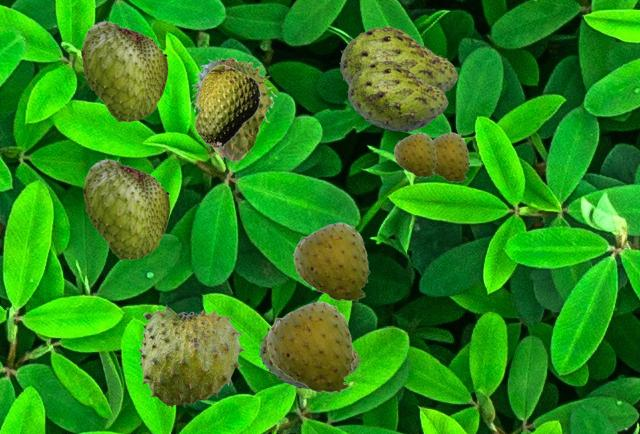guyabano: (137, 304, 244, 406), (190, 57, 276, 163), (81, 19, 167, 121), (83, 157, 169, 259), (265, 301, 354, 394), (339, 26, 457, 93), (347, 60, 447, 131), (259, 326, 359, 389), (292, 222, 369, 302), (193, 64, 260, 148), (393, 132, 436, 177), (433, 132, 469, 182)
